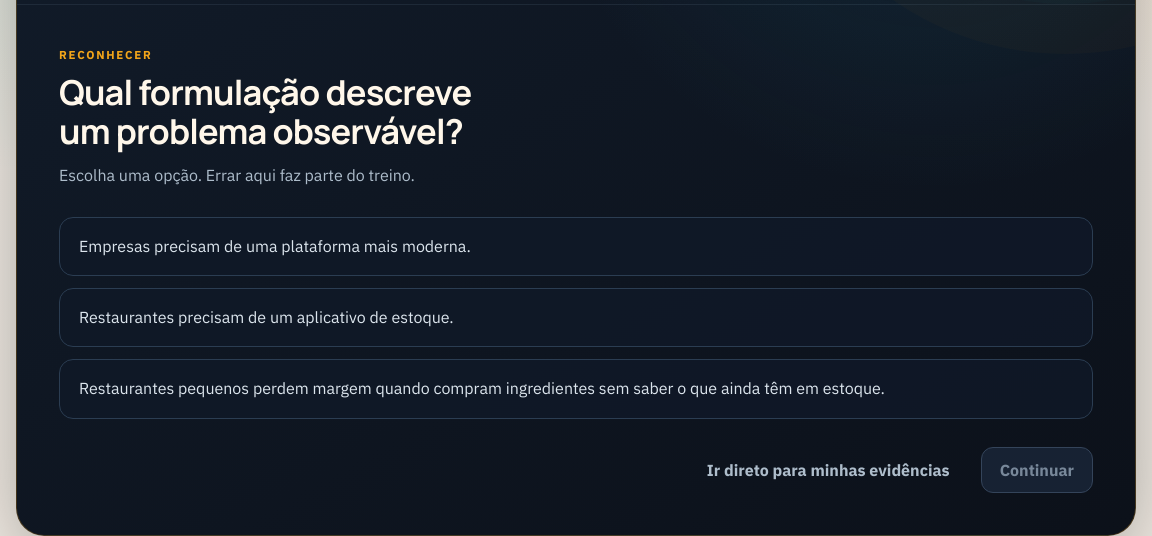
Scenario: ProblemRefinementChallenge › offers a recovery path when prerequisite interviews are unavailable
(page scrolled)
Click the button "Ir direto para minhas evidências" at [828, 470], box [688,446,969,492]
(page scrolled)
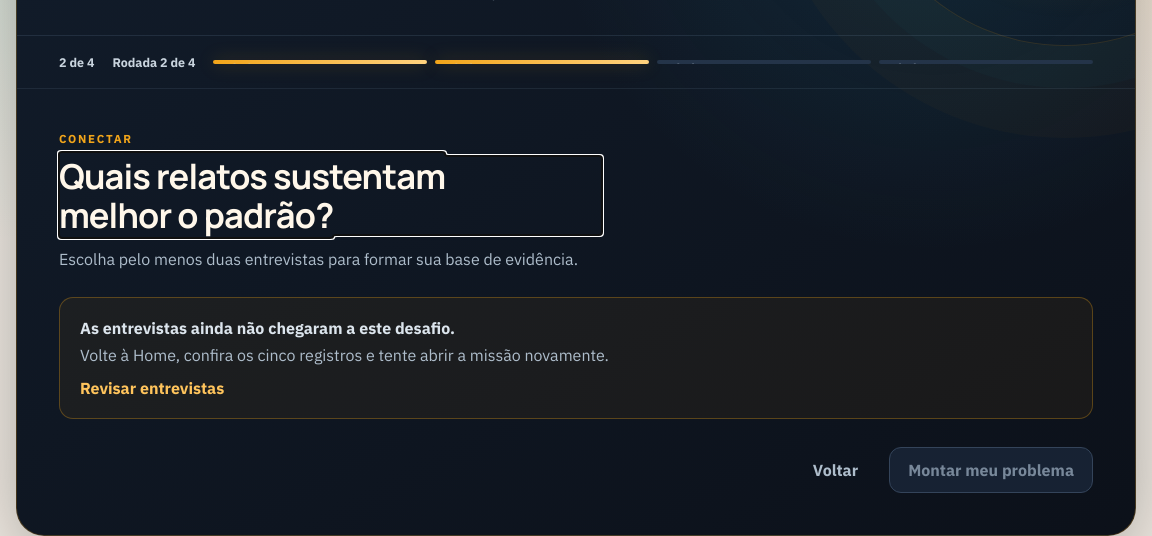
Result: the message shows "As entrevistas ainda não chegaram a este desafio" at [80,318,455,338]
